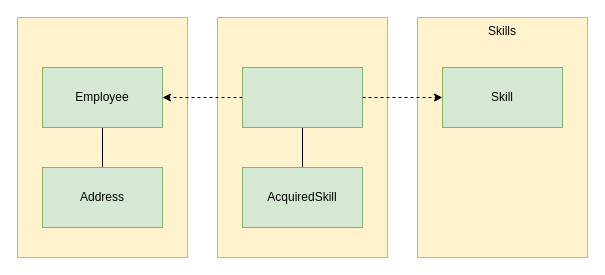
The diagram is 605 pixels wide and 275 high, and some of its shapes have lost their labels. Here are the shapes that lost their labels. From the top down, the box of each, then its label:
(242, 66, 362, 128): EmployeeSkills
(16, 16, 188, 258): Employees
(216, 16, 388, 258): AcquiredSkills
